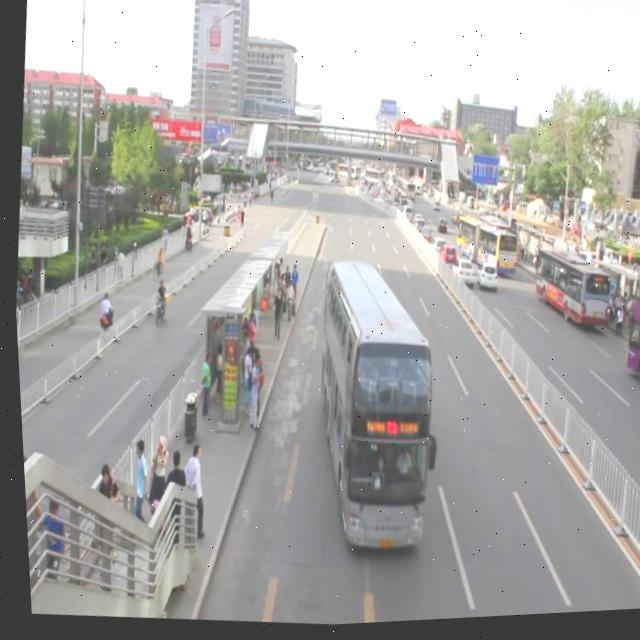van: (295, 257, 451, 563)
